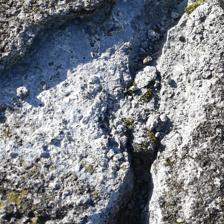Crack: (37, 62, 143, 142), (55, 36, 224, 77)
